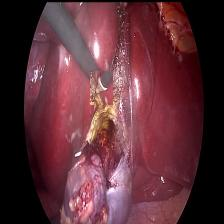Hook: (89, 70, 112, 104)
